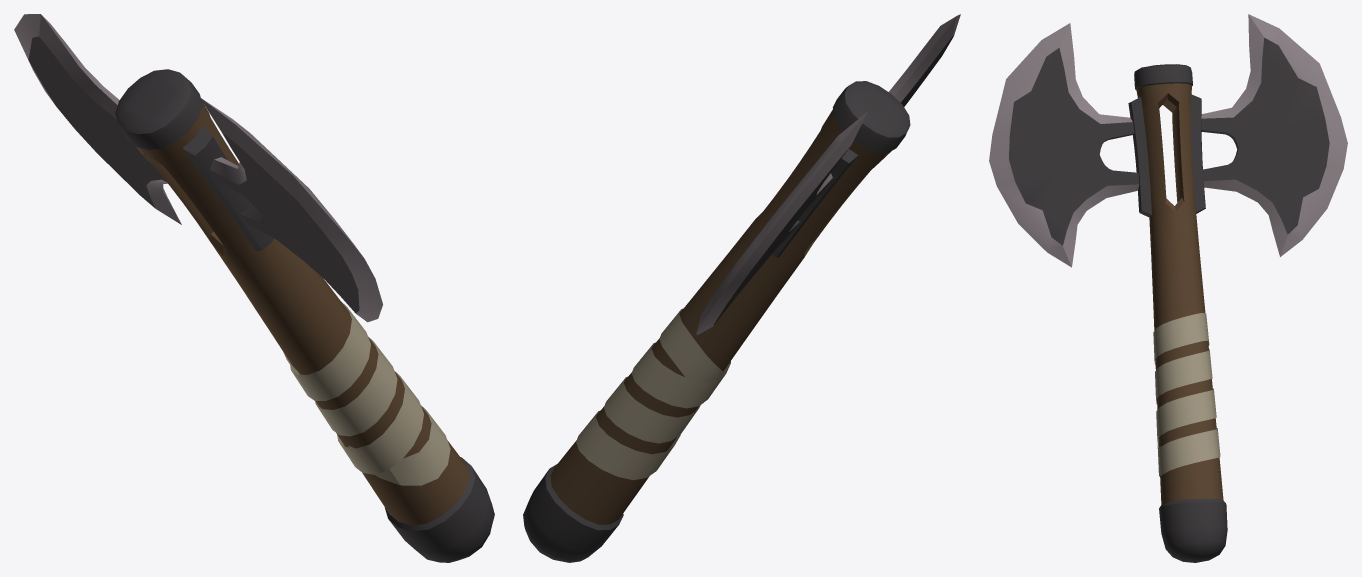
File: axe.obj
3 renders of one model, left to right at view 1: azimuth 30°, elevation 25°; view 2: azimuth 150°, elevation 25°; view 3: azimuth 270°, elevation 25°, orthographic. The views are drawn at different scales.
Size of the model in its own units: 0.7023 by 1 by 0.7654.
